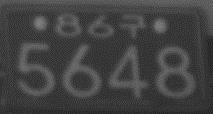4: (107, 44, 149, 99)
5: (17, 42, 55, 96)
6: (61, 42, 102, 98), (86, 13, 113, 38)
8: (154, 45, 196, 99), (54, 12, 82, 38)
구: (118, 13, 146, 39)
